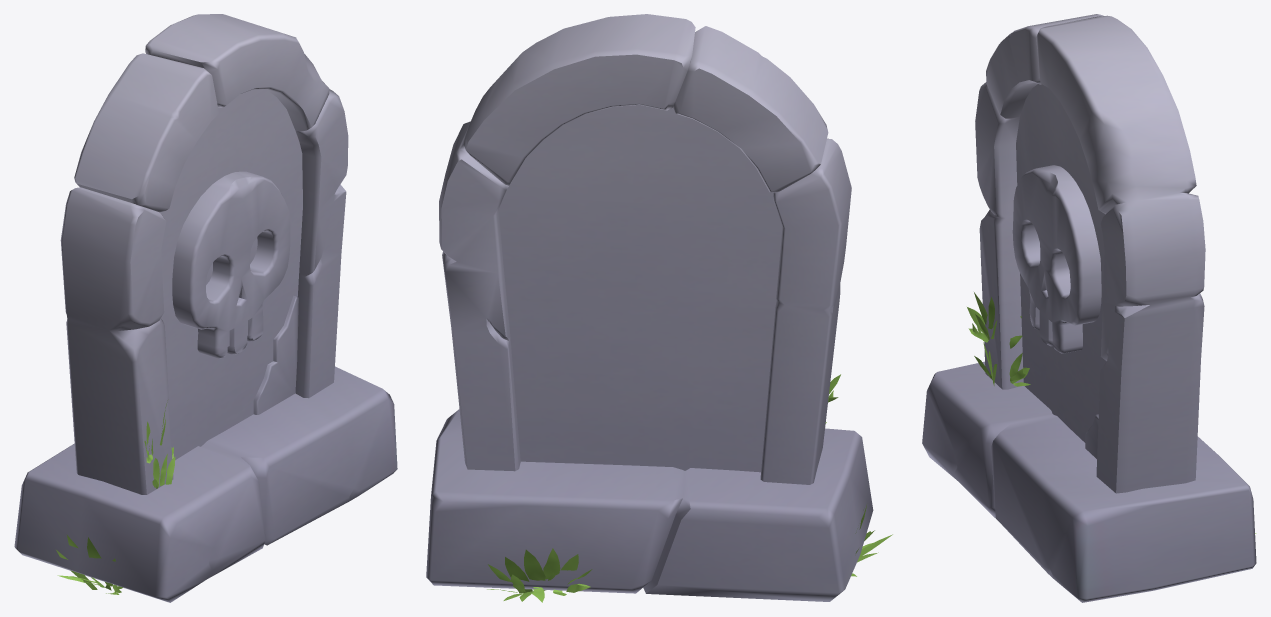
The model's file is WBA_Gravestone_Set_02.fbx.
3 renders of one model, left to right at view 1: azimuth 30°, elevation 25°; view 2: azimuth 150°, elevation 25°; view 3: azimuth 270°, elevation 25°, orthographic. The views are drawn at different scales.
Visible parts, largest first — view 1: WBA_Gravestone_Set_02; view 2: WBA_Gravestone_Set_02; view 3: WBA_Gravestone_Set_02.
Part boxes in pixels (bbox=[...]): WBA_Gravestone_Set_02: bbox=[14, 14, 397, 602]; WBA_Gravestone_Set_02: bbox=[426, 14, 892, 602]; WBA_Gravestone_Set_02: bbox=[922, 14, 1256, 602].
Size of the model in its own units: 47.37 by 60.42 by 36.81.
